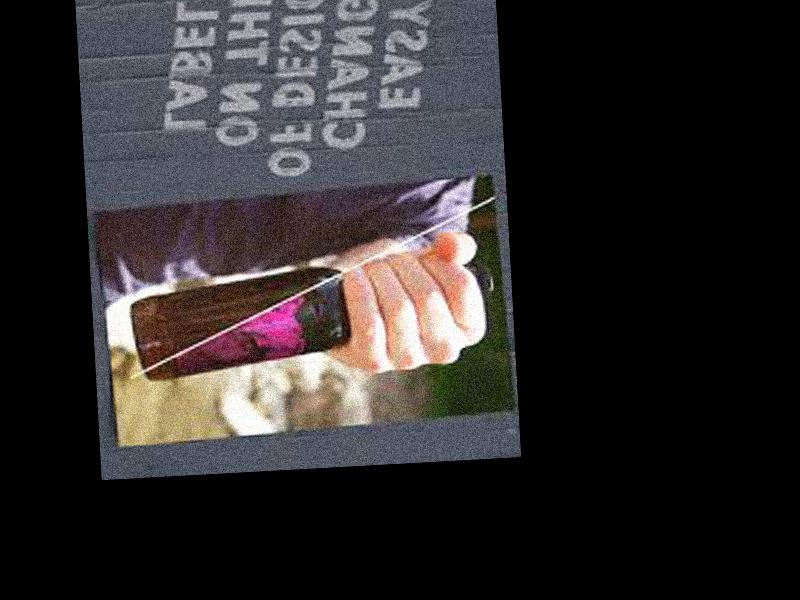Beer: (129, 256, 494, 378)
